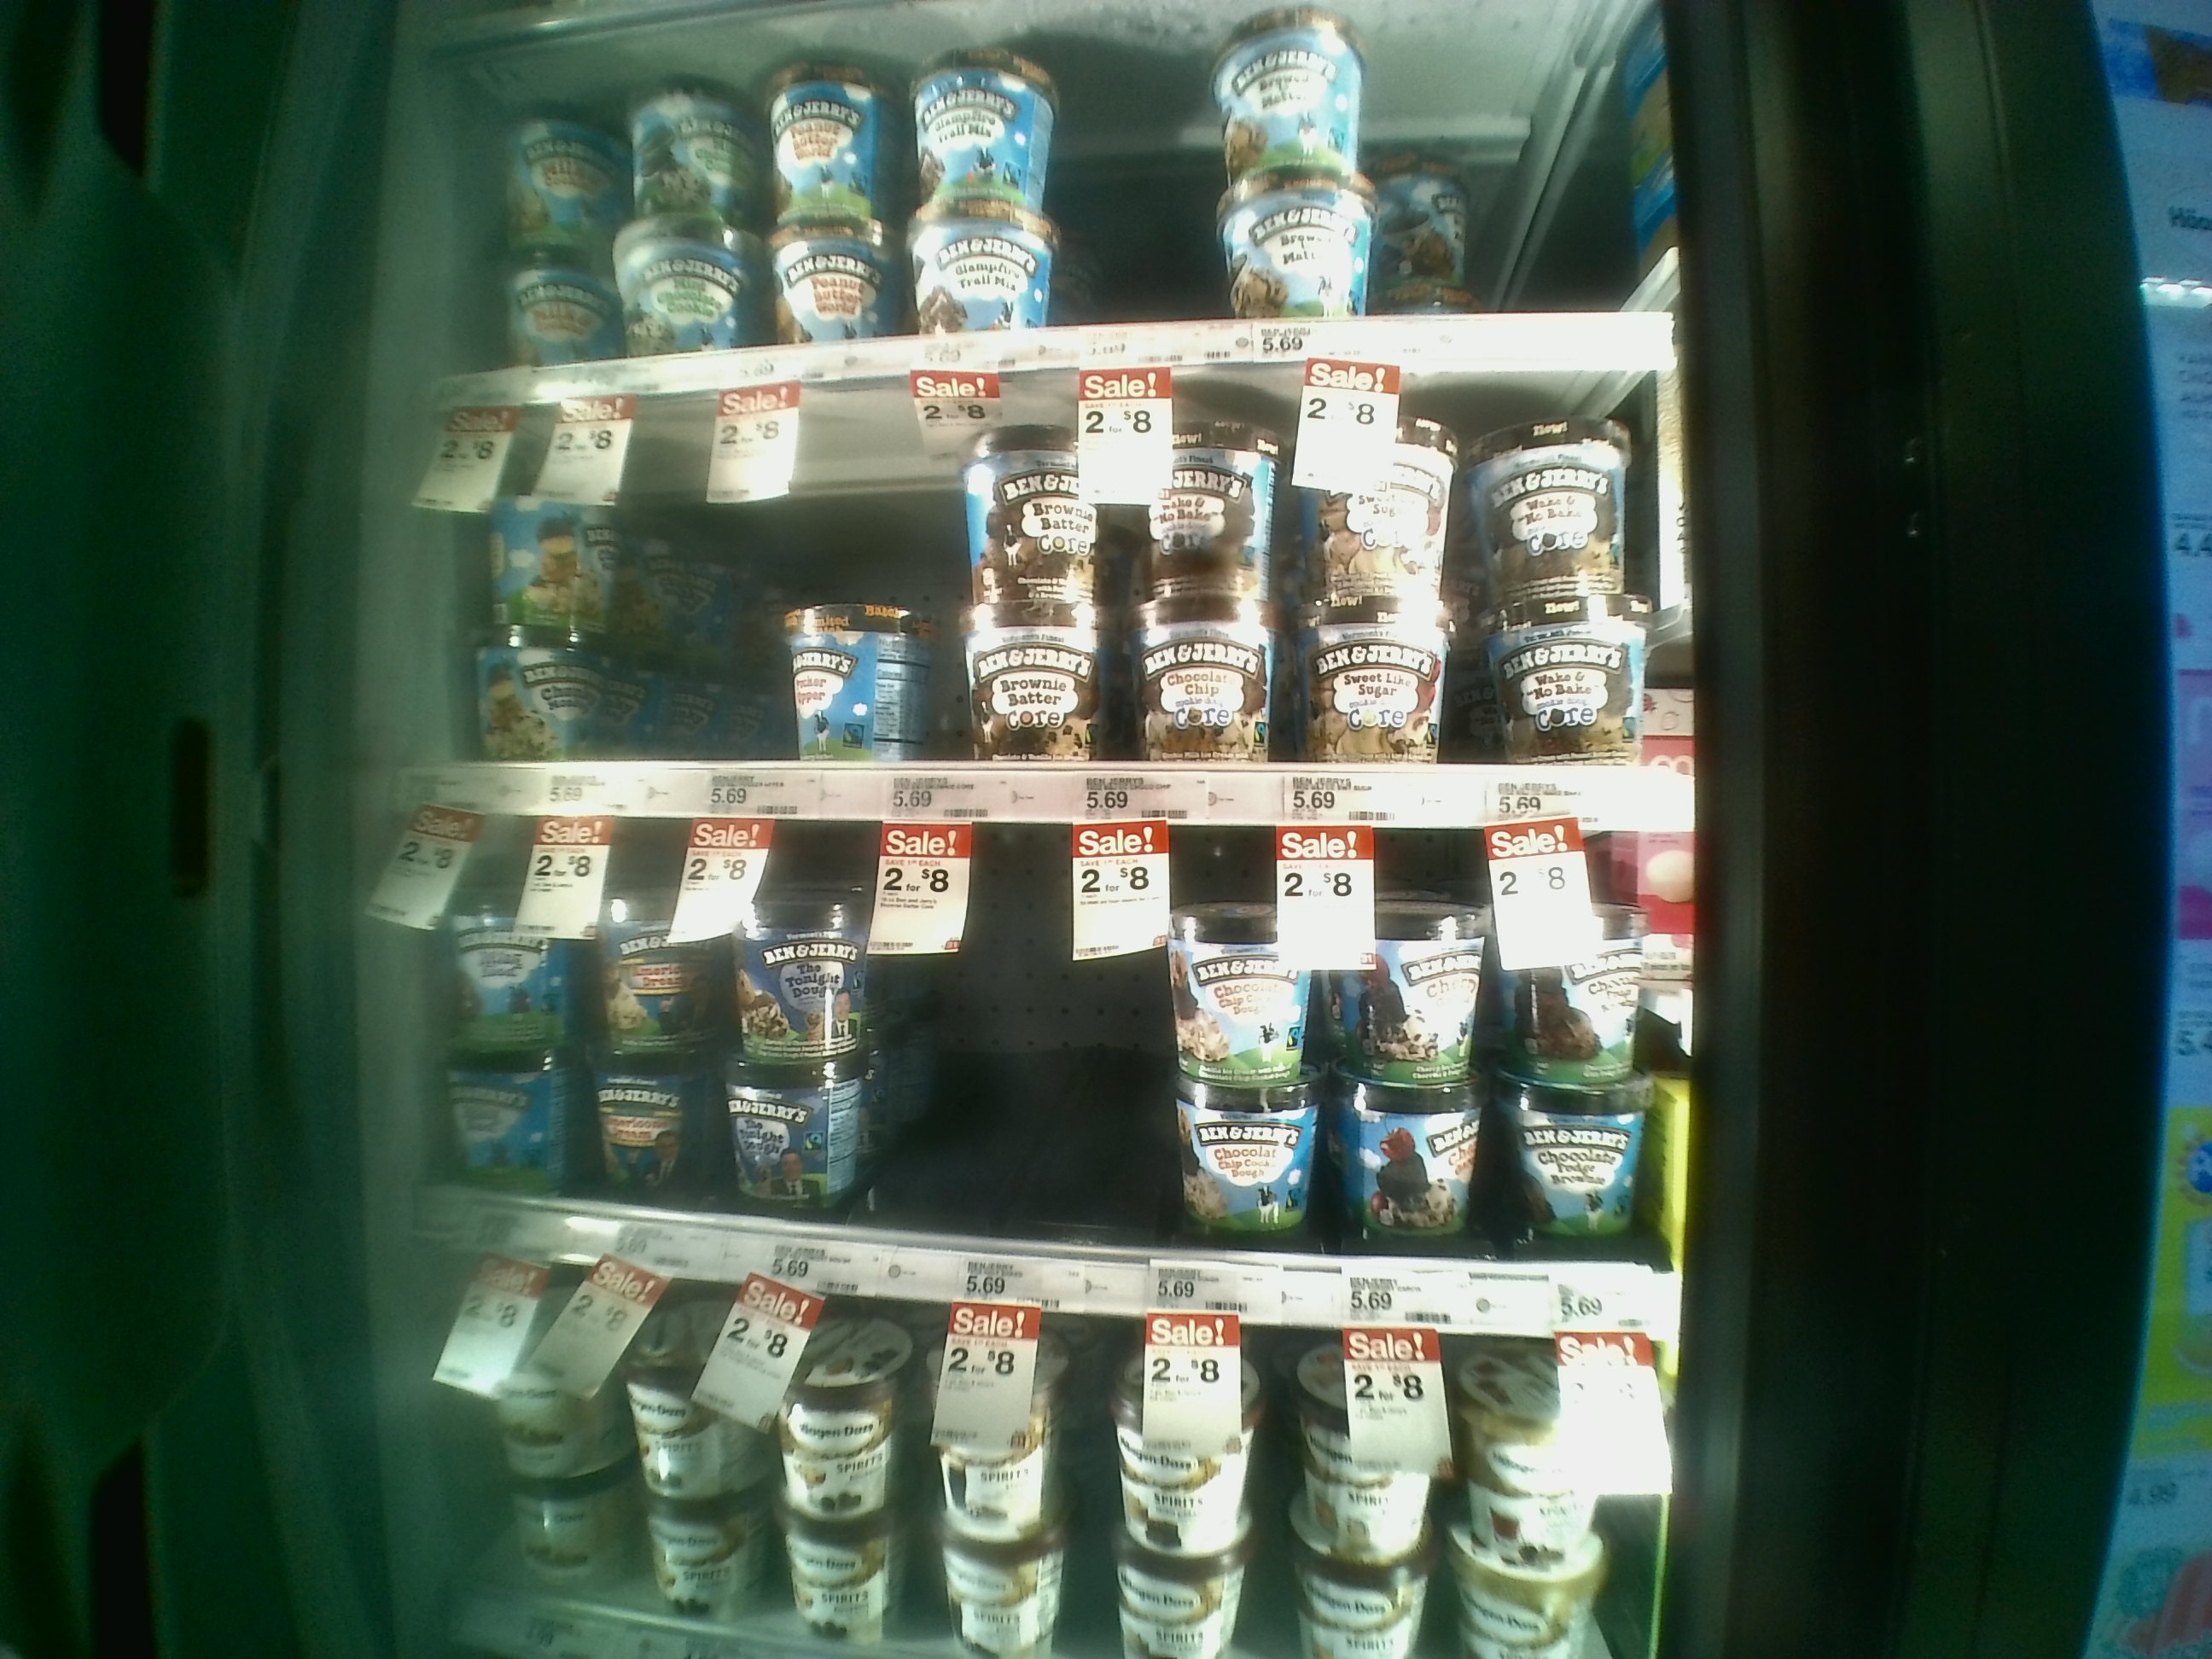ice-cream-shelf: (421, 823, 1695, 1326), (425, 369, 1686, 823)
